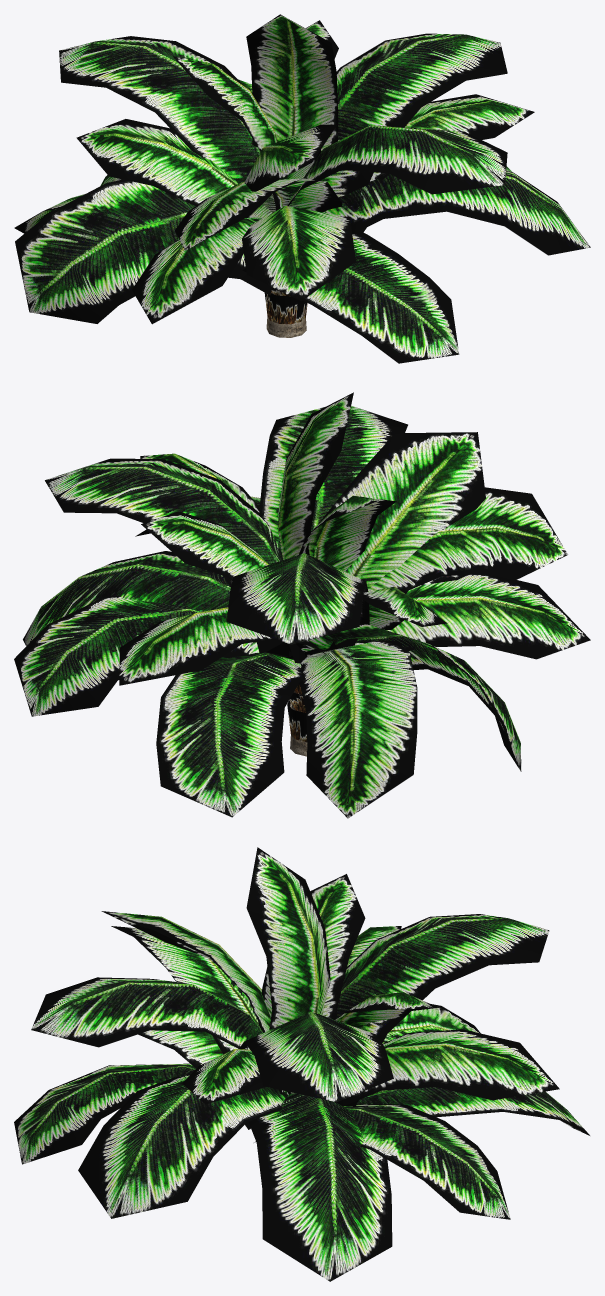
The model's file is palm1.dae.
3 views of the same model, one above another, from view 1: azimuth 30°, elevation 25°; view 2: azimuth 150°, elevation 25°; view 3: azimuth 270°, elevation 25° (orthographic). The views are drawn at different scales.
Visible parts, largest first — view 1: polySurface335_001_000; view 2: polySurface335_001_000; view 3: polySurface335_001_000.
Part boxes in pixels (<box>): polySurface335_001_000: <box>14,14,590,363</box>; polySurface335_001_000: <box>14,392,590,818</box>; polySurface335_001_000: <box>14,847,589,1281</box>.
Bounding box in the file's own units: 5.13 × 5.06 × 3.35.
2 materials, 2 textured.
